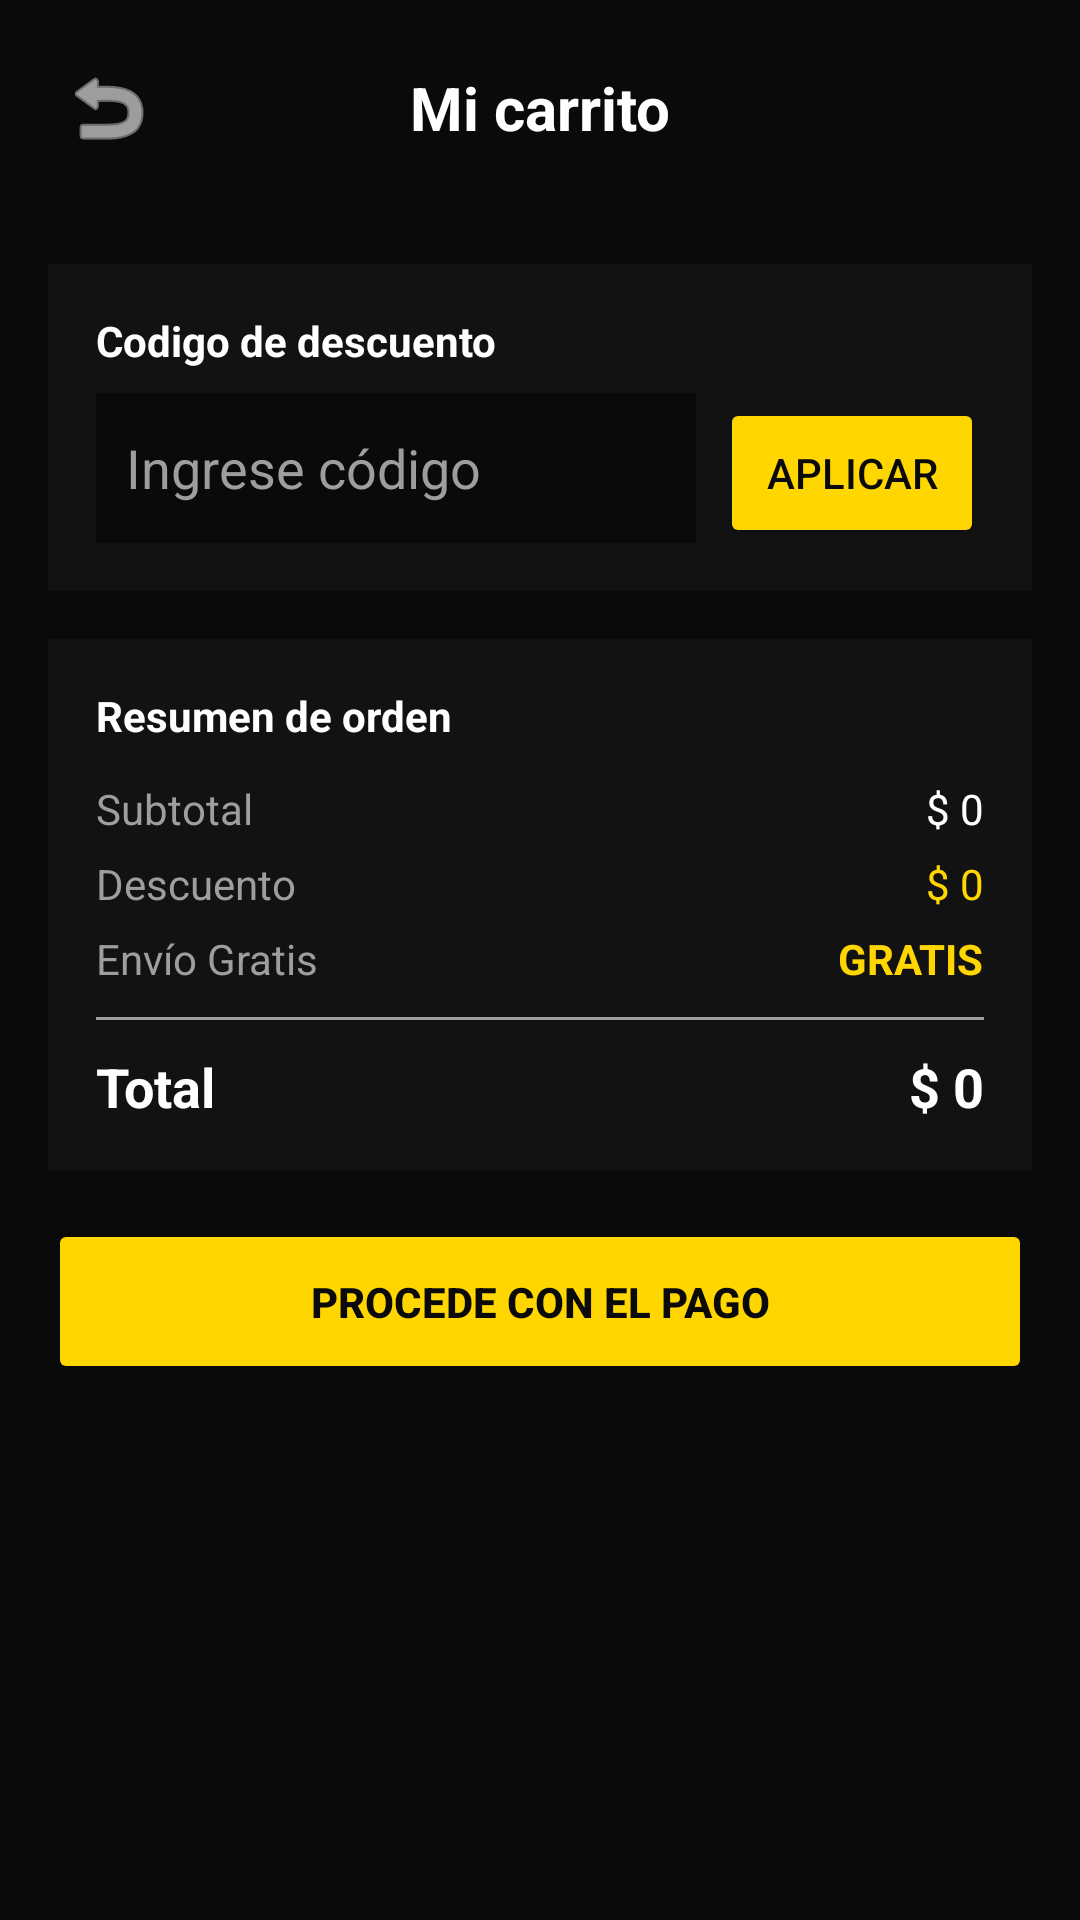

Icon bounding boxes for this 1080 × 1920 phone screenshot, format (x1, y1, x2, y2):
revert: (75, 77, 144, 140)
